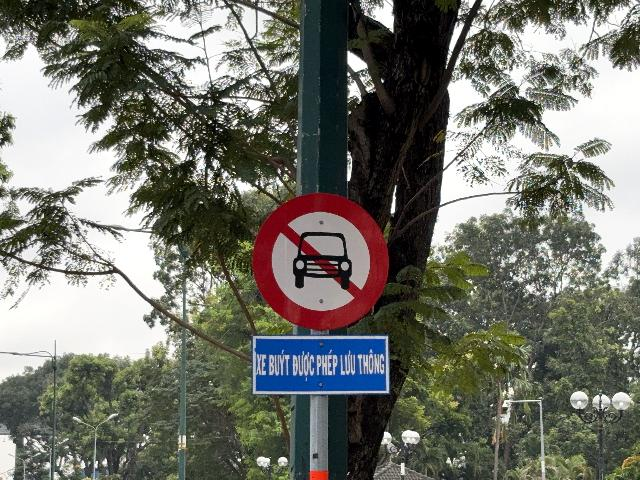cam-o-to: (252, 192, 389, 330)
